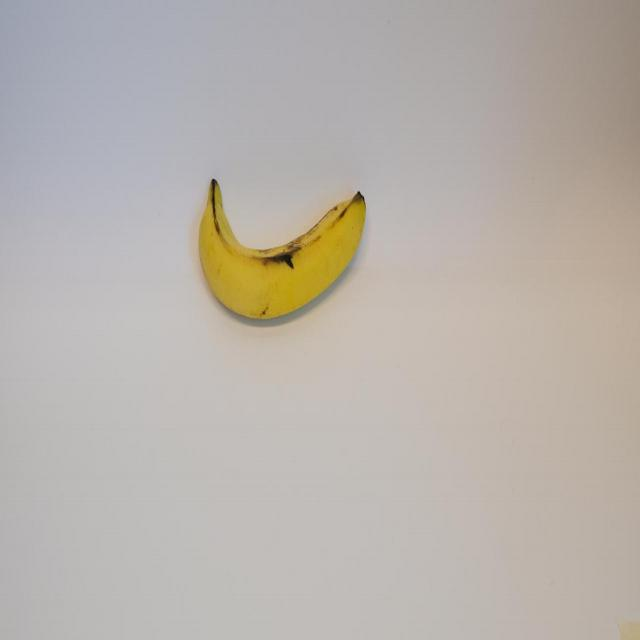banana: (190, 156, 370, 320)
